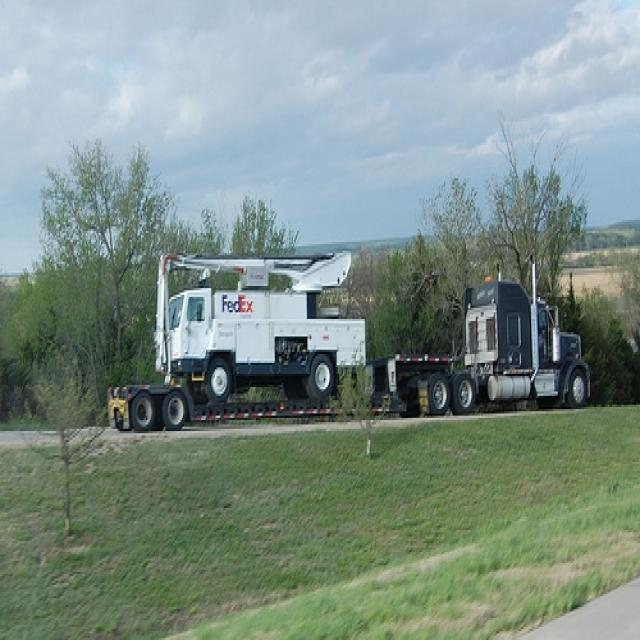fedex: (220, 294, 257, 316)
